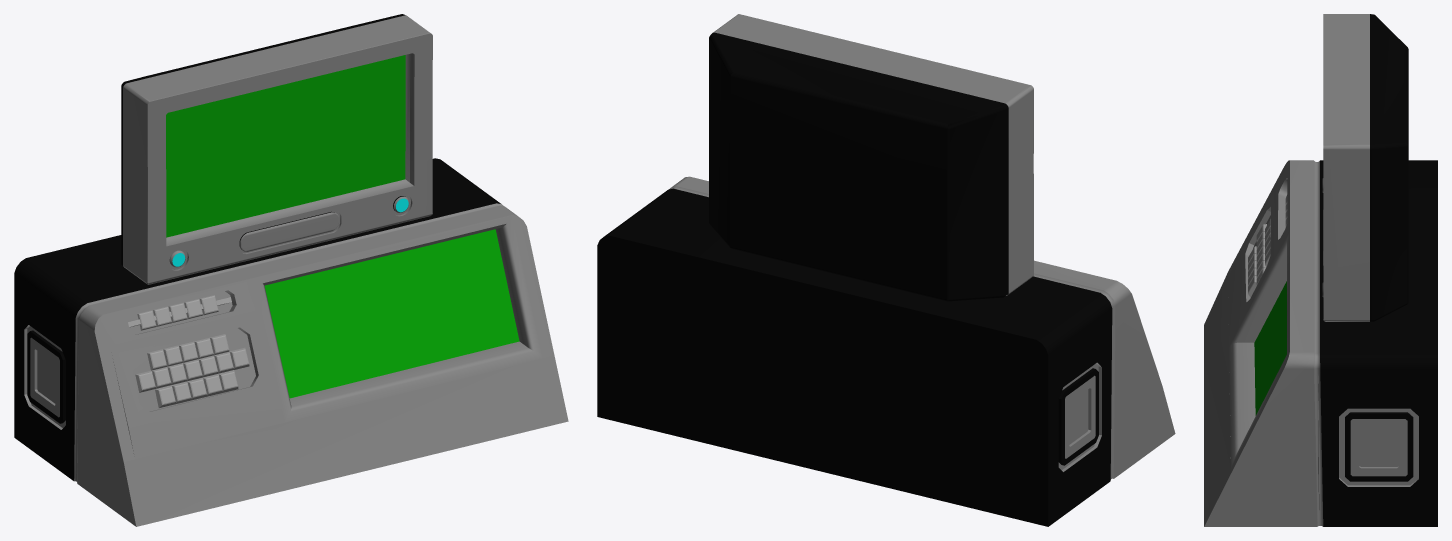
The model's file is radio.glb.
3 views of the same model, side by side, from view 1: azimuth 30°, elevation 25°; view 2: azimuth 150°, elevation 25°; view 3: azimuth 270°, elevation 25° (orthographic). The views are drawn at different scales.
Parts seen in each view (by area): view 1: radio; view 2: radio; view 3: radio.
Part boxes in pixels (x1,y1,x2,y2): radio: (14, 14, 568, 526); radio: (597, 14, 1175, 526); radio: (1204, 14, 1437, 526).
Bounding box in the file's own units: 0.3833 × 0.3063 × 0.1873.
